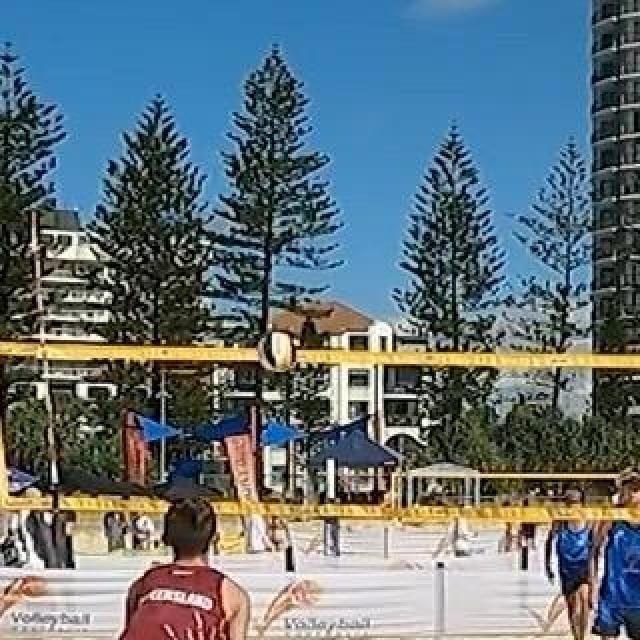volleyball: (257, 331, 299, 371)
